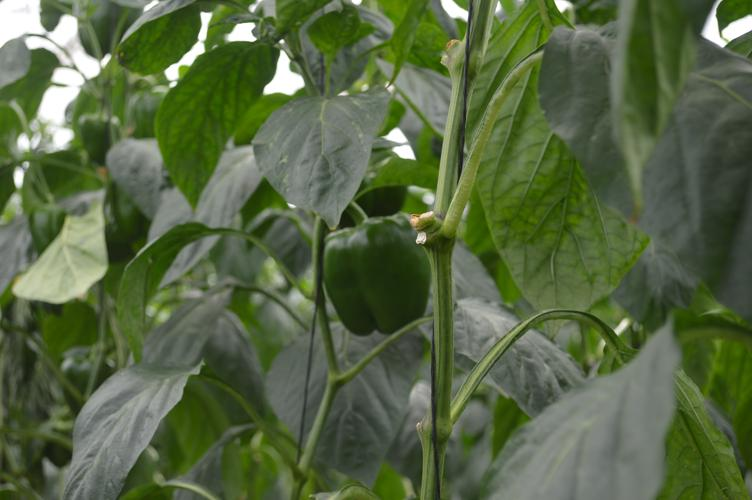BellPepper: (323, 209, 432, 328)
